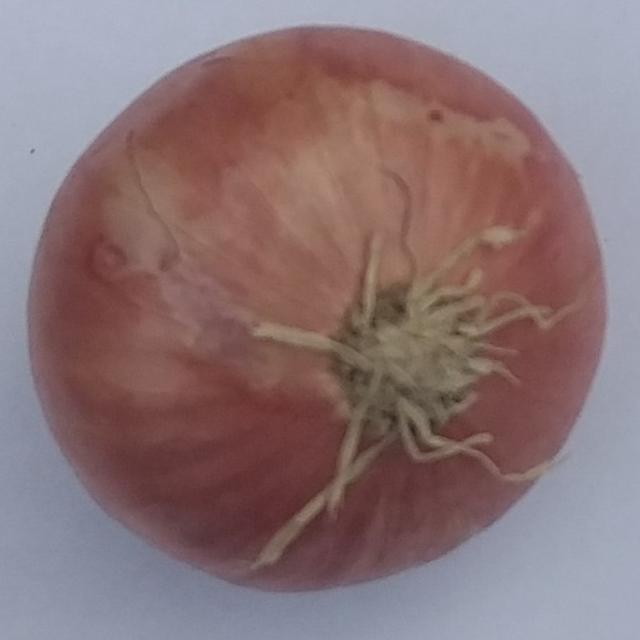onion: (23, 19, 610, 594)
